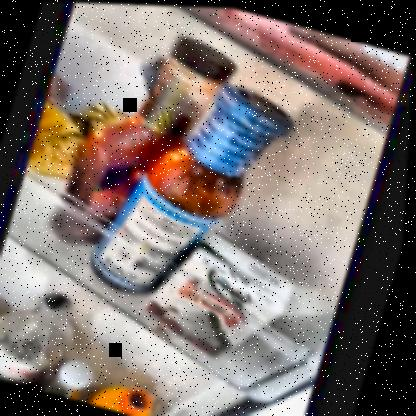heavy_cream: (170, 235, 285, 359)
